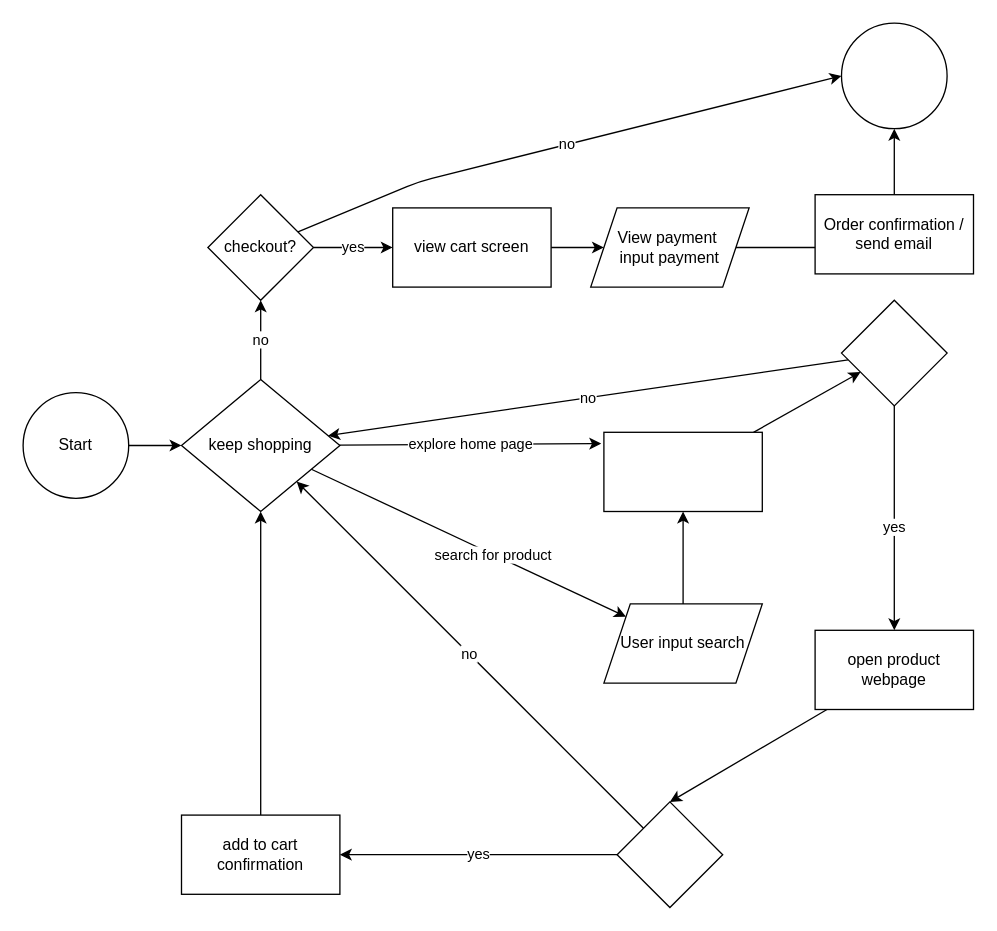
Image size: 997x931. Some labels were removed from this diagram. Here are the shapes that lost their labels. From the top down, the box of each, then its label:
(840, 22, 947, 129): User exit site
(840, 299, 947, 406): view item
(603, 431, 762, 512): look over products
(616, 801, 723, 908): add item to cart
